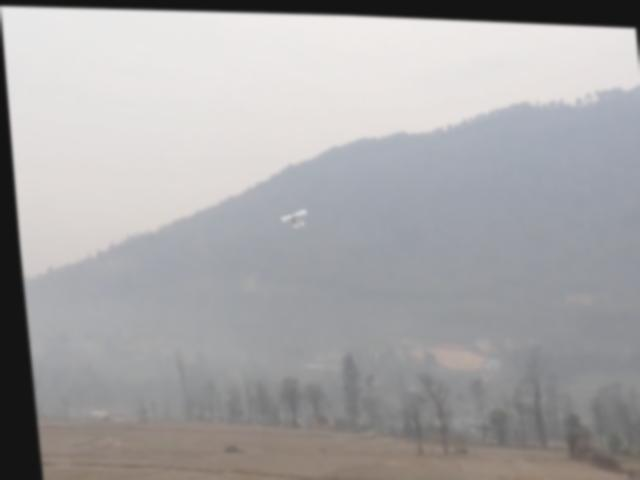plane: (275, 204, 305, 225)
